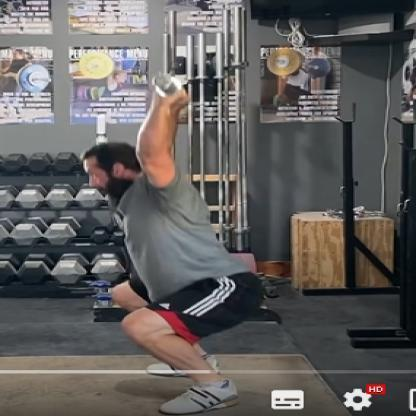Barbell: (152, 73, 177, 91)
